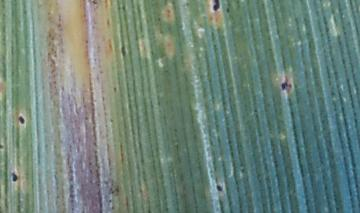tarspot: (16, 114, 26, 125), (212, 1, 221, 12), (281, 79, 290, 90), (10, 171, 19, 182), (120, 45, 127, 56), (215, 183, 223, 192), (1, 142, 5, 150), (226, 8, 231, 13)
